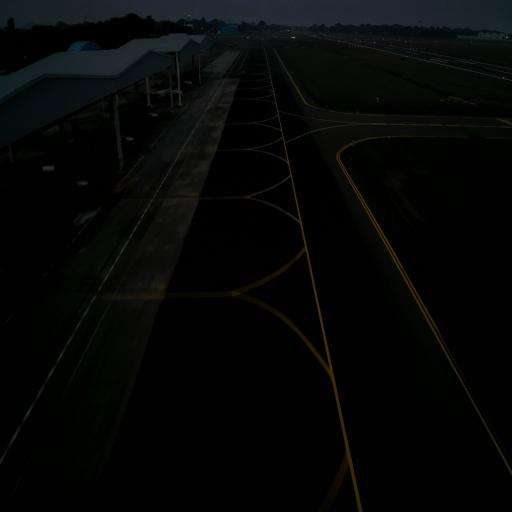on: (388, 136, 390, 140)
